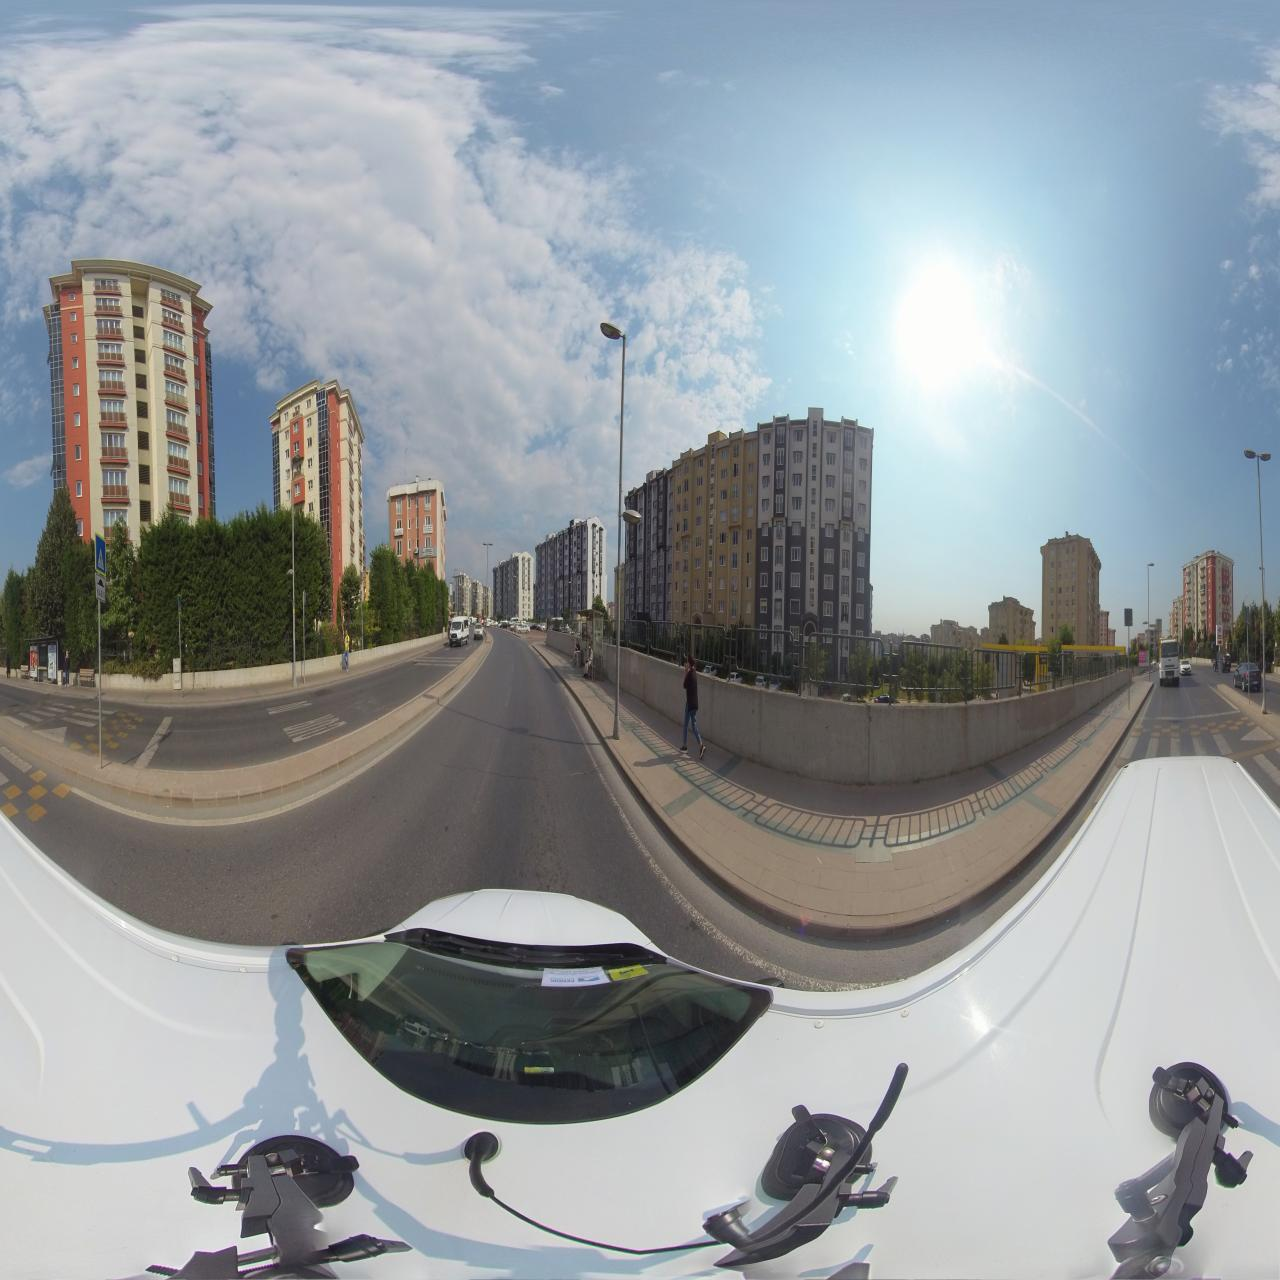SignStore: (423, 524, 433, 533), (395, 529, 403, 536)
